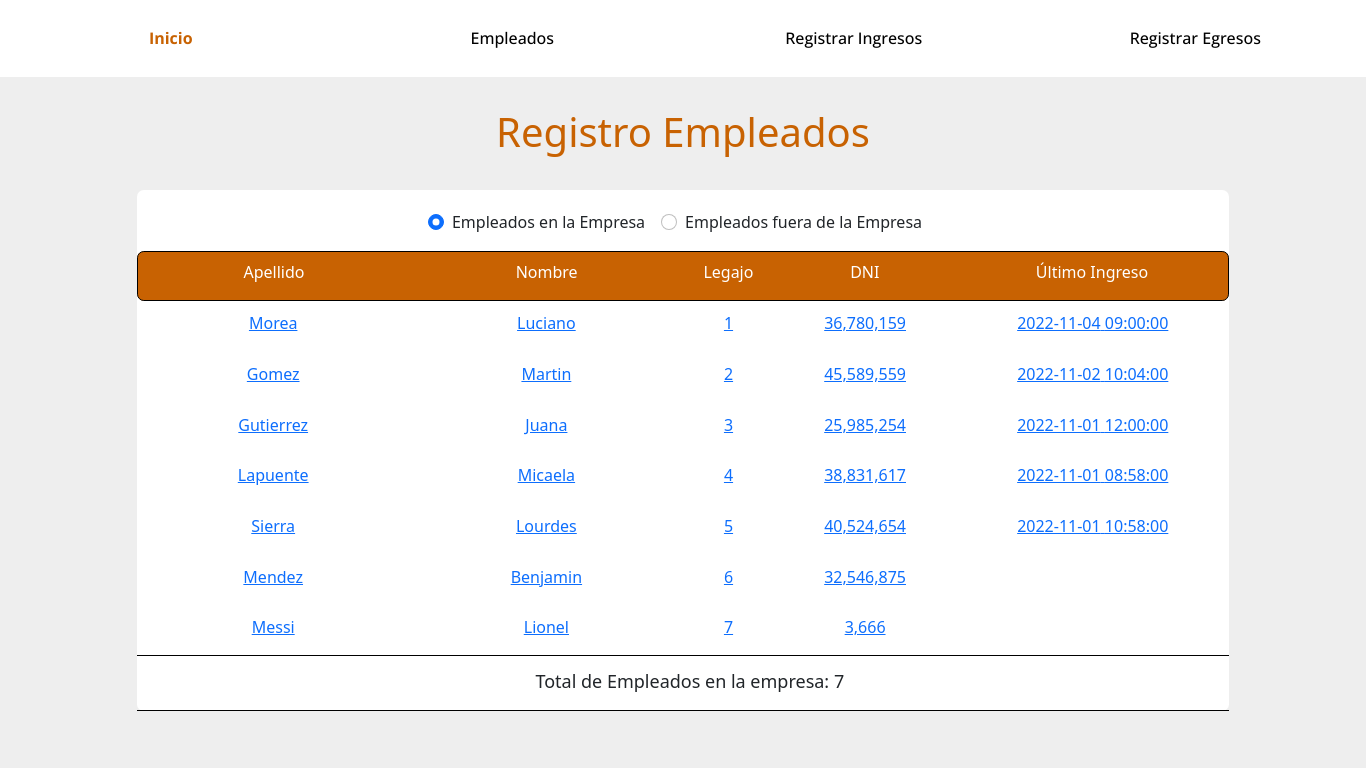
Test case: Ingresos › render Title Registro Ingresos
Step 1. Click the link "Registrar Ingresos" → (854, 38), box [785, 26, 922, 50]
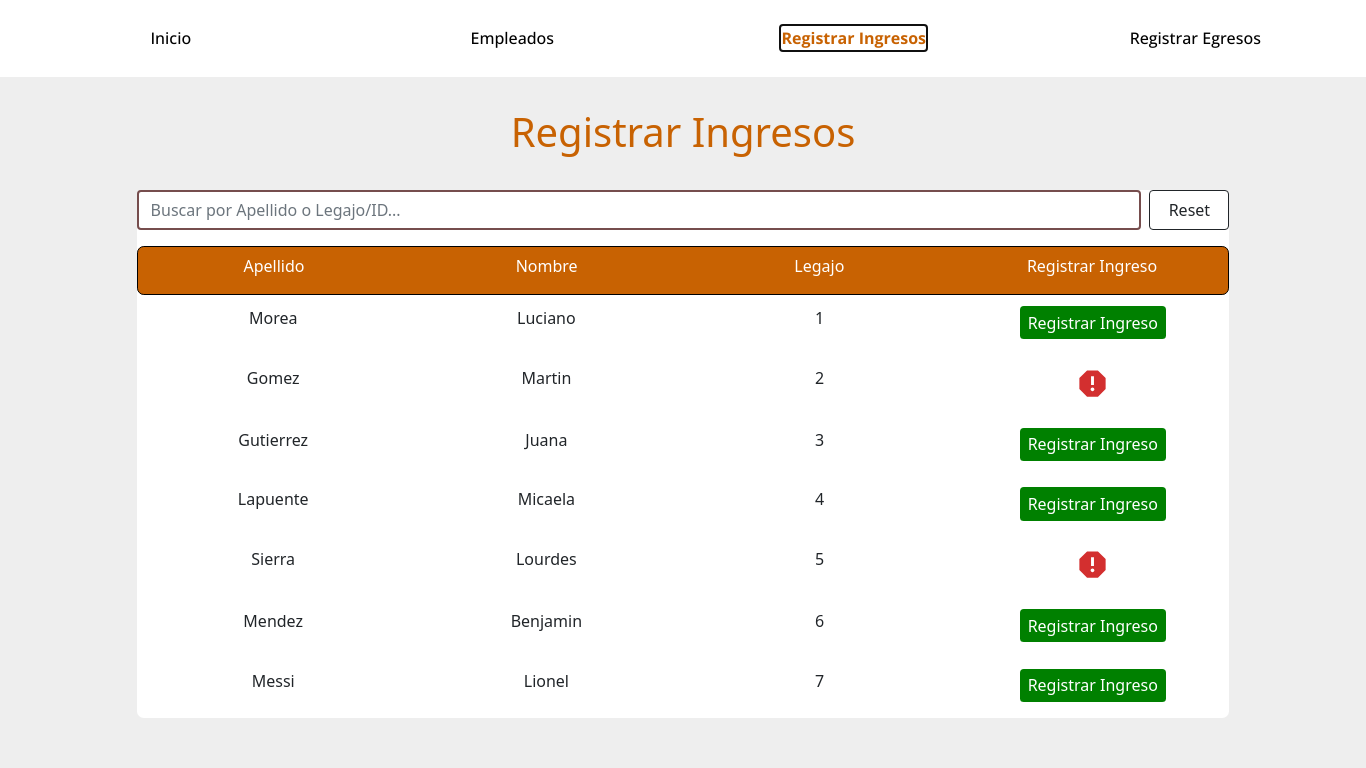
Result: the heading "Registrar Ingresos" is shown at [511, 104, 855, 158]
